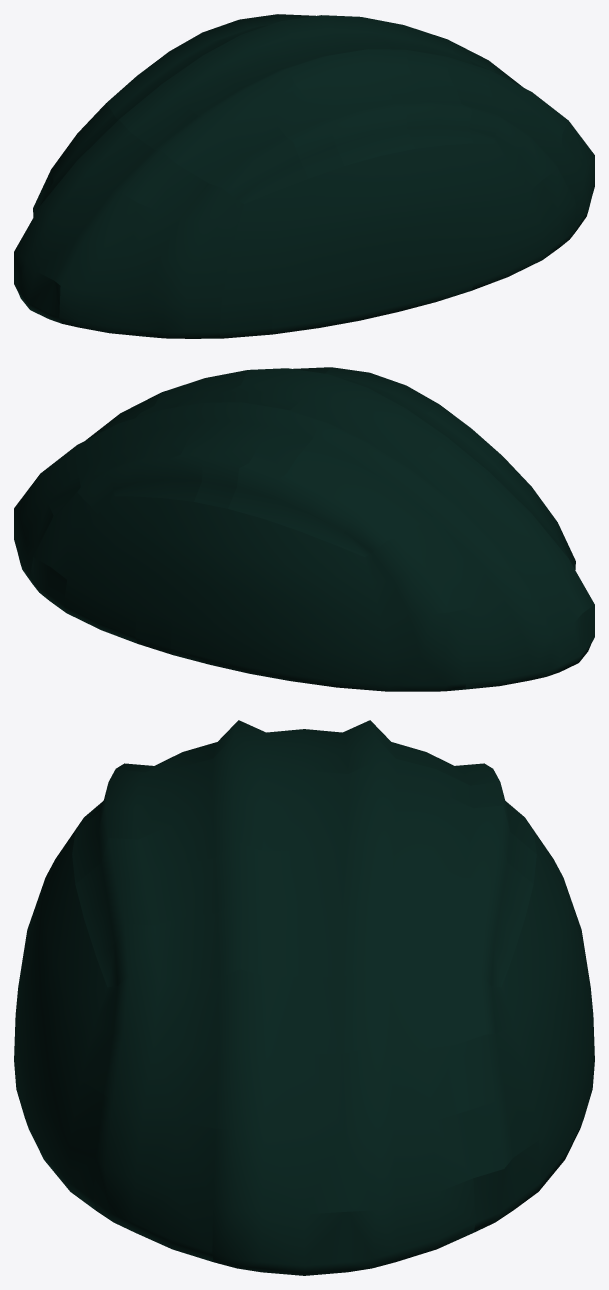
File: qiaokeliC.fbx
The picture shows the model from 3 angles, top to bottom: view 1: azimuth 30°, elevation 25°; view 2: azimuth 150°, elevation 25°; view 3: azimuth 270°, elevation 25°; orthographic projection. The views are drawn at different scales.
Size of the model in its own units: 3.87 by 1.39 by 2.32.
